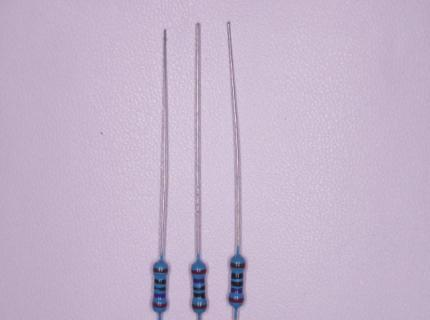Black band: (231, 281, 243, 287), (231, 273, 243, 279), (155, 278, 166, 284), (194, 292, 205, 298), (154, 286, 166, 291), (193, 285, 205, 290)
Brown band: (153, 267, 168, 273), (231, 262, 245, 268), (192, 304, 206, 309)
Red band: (229, 297, 244, 303), (153, 302, 167, 308), (192, 270, 206, 274)
Violet band: (231, 287, 243, 294), (154, 293, 166, 299), (193, 278, 204, 283)
